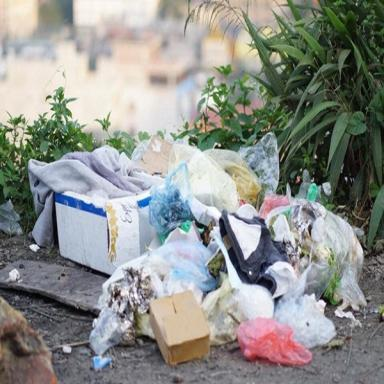plasticbag: (28, 83, 383, 382), (195, 178, 371, 335), (144, 122, 286, 242)
